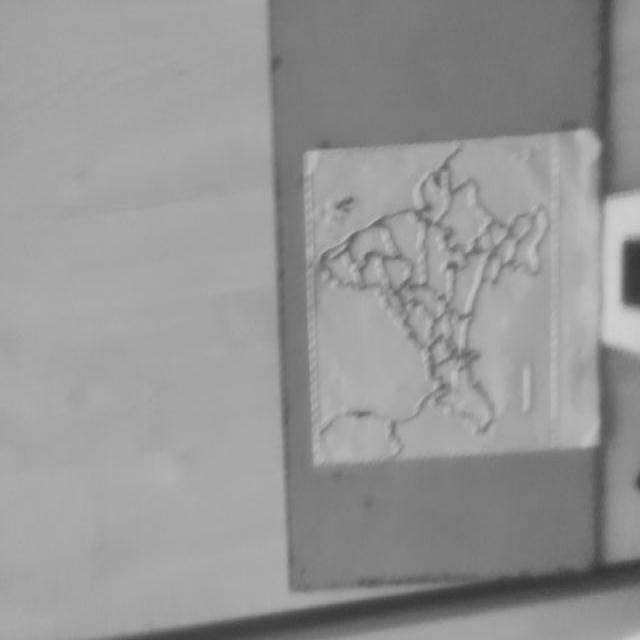map: (300, 136, 573, 464)
